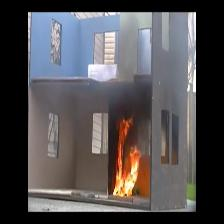fire: (118, 119, 123, 195), (128, 153, 137, 194)
smoke: (112, 85, 145, 111)
